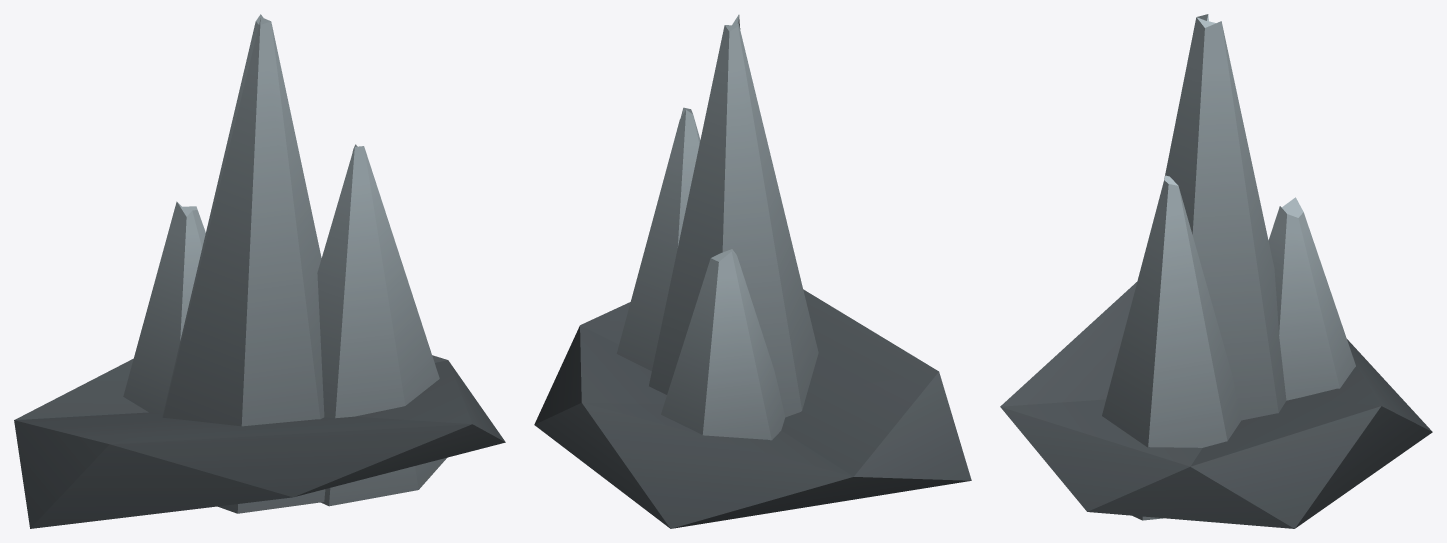
The model's file is stalagmite_b.glb.
3 renders of one model, left to right at view 1: azimuth 30°, elevation 25°; view 2: azimuth 150°, elevation 25°; view 3: azimuth 270°, elevation 25°, orthographic. The views are drawn at different scales.
Parts seen in each view (by area): view 1: stalagmite_b; view 2: stalagmite_b; view 3: stalagmite_b.
Boxes of the visible parts, x1=… form: stalagmite_b: x1=14, y1=14, x2=505, y2=528; stalagmite_b: x1=534, y1=14, x2=971, y2=528; stalagmite_b: x1=1000, y1=14, x2=1432, y2=528.
Bounding box in the file's own units: 1.3 × 1.45 × 1.19.
Materials: 1 (1 with a texture image).
